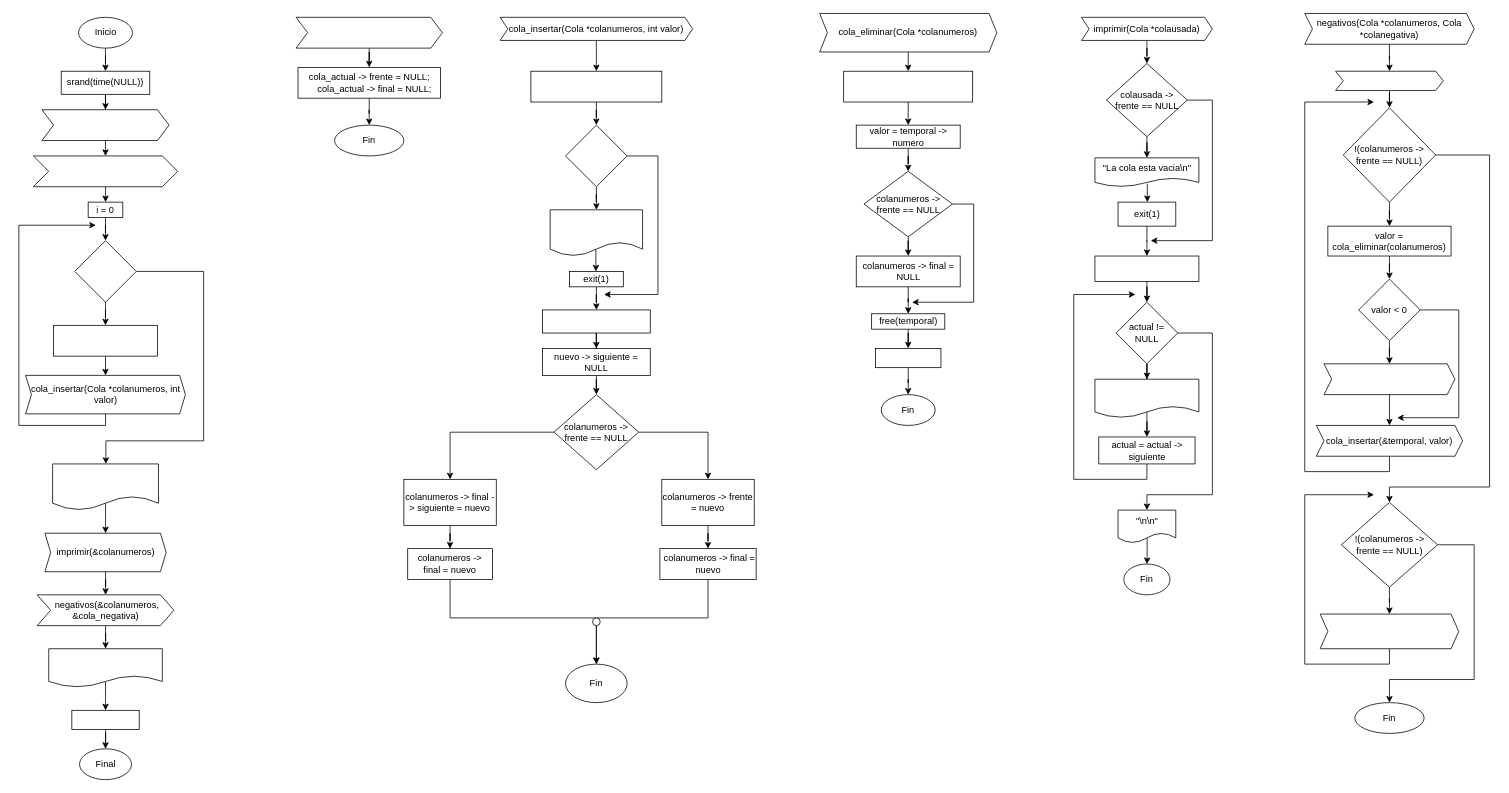
This 1509x793 diagram has some shape labels left out. Here are the shapes that lost their labels. From the top down, the centre of each, then its label:
[368,32]: inicializar(Cola * cola_actual)
[596,86]: nuevo = (Nodo*)malloc(sizeof(Nodo))
[908,86]: temporal = colanumeros -> frente
[1389,80]: inicializar(&temporal)
[105,125]: inicializar(&colanumeros)
[105,171]: inicializar(&cola_negativa)
[596,155]: nuevo == NULL
[596,232]: "Error, no se pudo asignar memoria\n"
[105,271]: i < 100
[1146,268]: actual = colausada -> frente
[105,340]: num = min + rand() % (max - min + 1)
[596,321]: nuevo -> numero = valor
[908,358]: return valor
[1146,398]: "[%d], ", actual -> numero
[1389,379]: cola_insertar(colanegativa, valor)
[105,486]: "Cola de numeros: \n"
[1389,631]: cola_insertar(colanumeros, cola_eliminar(&temporal))
[105,667]: "Cola con numeros negativos:\n"
[105,720]: return 0
